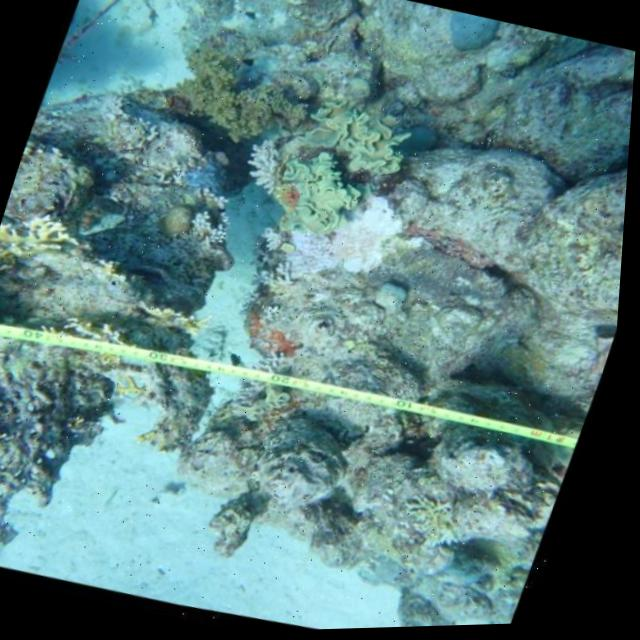Bleached Coral: (246, 171, 442, 324), (173, 170, 258, 261), (227, 125, 303, 201)
